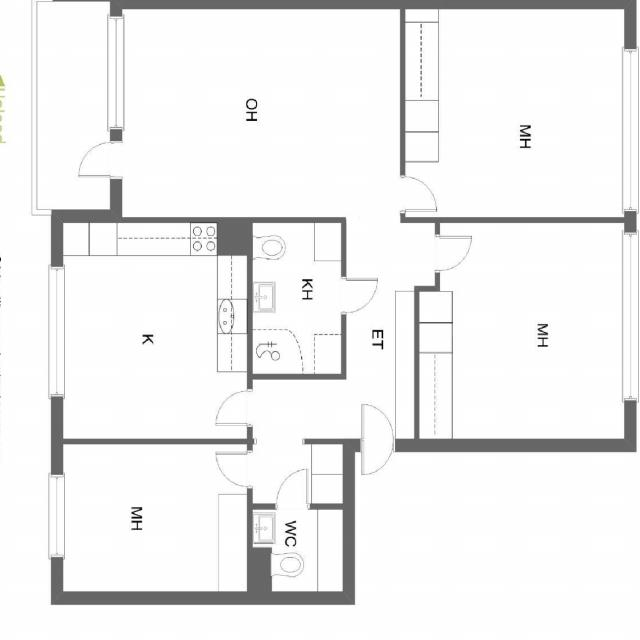door: (361, 403, 393, 452), (361, 438, 393, 486), (79, 142, 121, 176), (435, 236, 471, 271), (400, 176, 436, 211), (216, 391, 252, 425), (216, 452, 252, 486), (276, 471, 307, 509), (341, 279, 376, 312)
